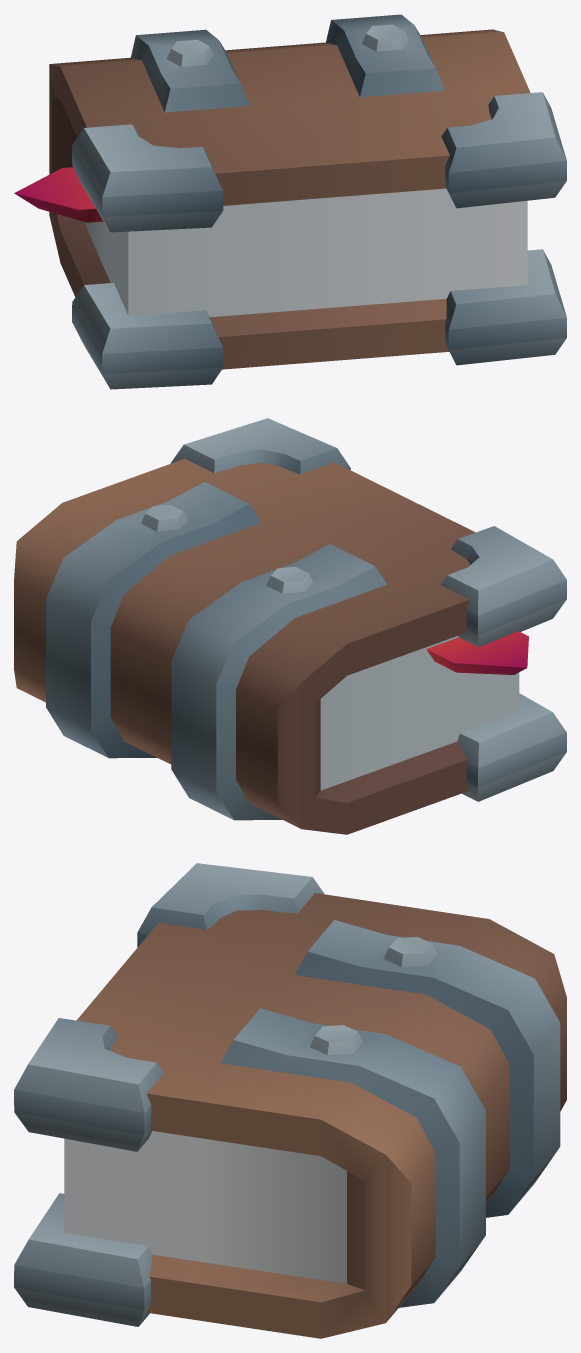
Rendered from building_closure.glb.
The picture shows the model from 3 angles, top to bottom: view 1: azimuth 30°, elevation 25°; view 2: azimuth 150°, elevation 25°; view 3: azimuth 270°, elevation 25°; orthographic projection. The views are drawn at different scales.
Parts seen in each view (by area): view 1: journal_closed; view 2: journal_closed; view 3: journal_closed.
Part boxes in pixels (left/top/right/bottom): journal_closed: left=14, top=14, right=566, bottom=389; journal_closed: left=14, top=418, right=566, bottom=834; journal_closed: left=14, top=863, right=566, bottom=1338.
Size of the model in its own units: 5.76 by 2.64 by 4.92.
Materials: 1 (1 with a texture image).
